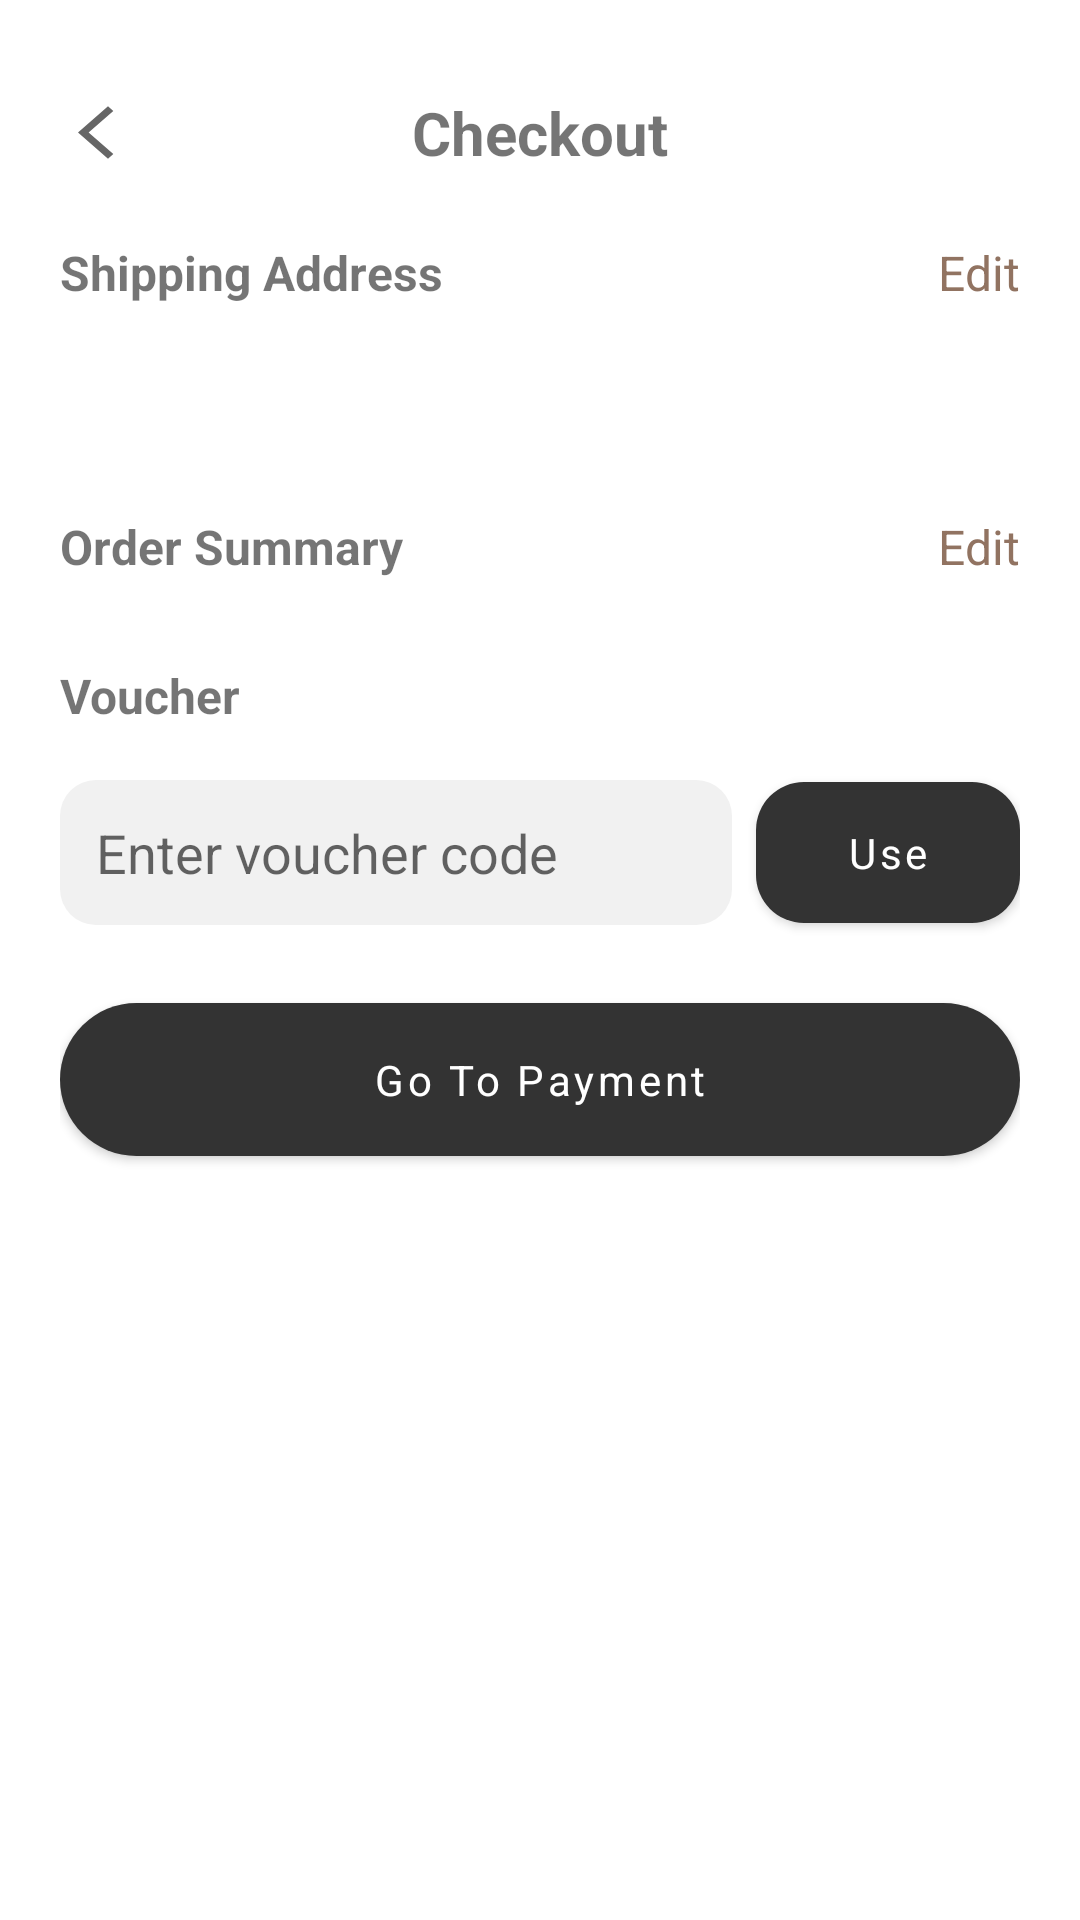

Named icons in this screenshot (1080px x 1920px) and their bounding boxes, box=[x1, y1, x2, y2]:
arrow back: box=[78, 106, 113, 159]
